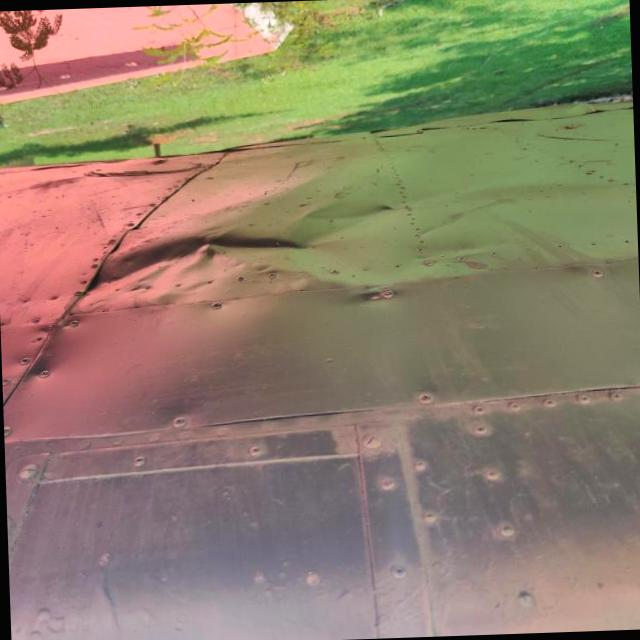dent: (69, 209, 344, 325)
